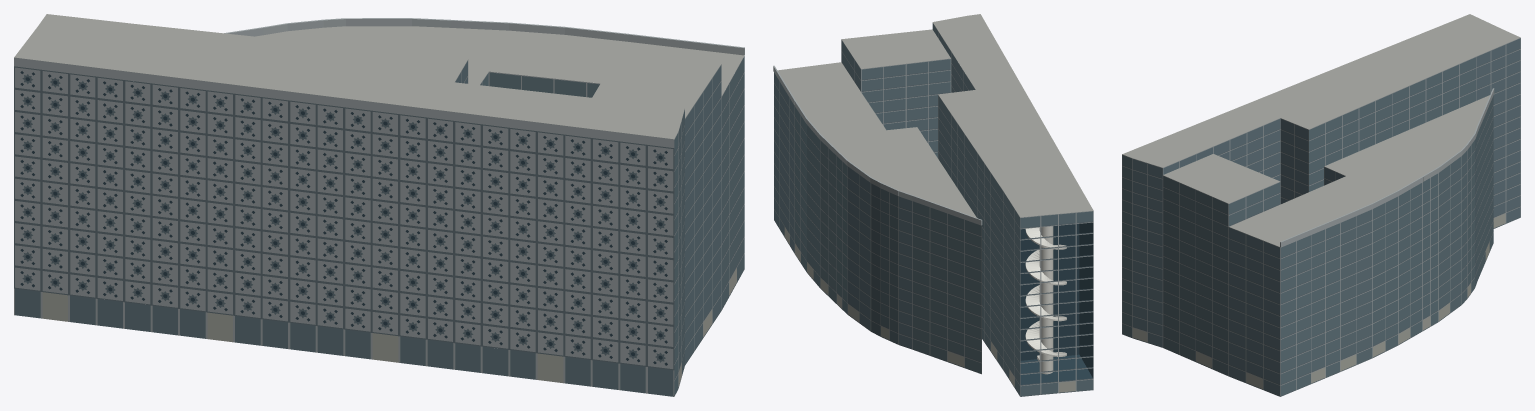
The model's file is institut-du-monde-arabe-near.glb.
3 views of the same model, side by side, from view 1: azimuth 30°, elevation 25°; view 2: azimuth 150°, elevation 25°; view 3: azimuth 270°, elevation 25° (orthographic). The views are drawn at different scales.
Parts seen in each view (by area): view 1: institut-du-monde-arabe-0-metal, institut-du-monde-arabe-0-roof, institut-du-monde-arabe-0-frame, institut-du-monde-arabe-0-glass, institut-du-monde-arabe-0-aperture, institut-du-monde-arabe-0-glow; view 2: institut-du-monde-arabe-0-glass, institut-du-monde-arabe-0-roof, institut-du-monde-arabe-0-metal, institut-du-monde-arabe-0-aperture, institut-du-monde-arabe-0-frame, institut-du-monde-arabe-0-white, institut-du-monde-arabe-0-glow; view 3: institut-du-monde-arabe-0-glass, institut-du-monde-arabe-0-roof, institut-du-monde-arabe-0-metal, institut-du-monde-arabe-0-frame, institut-du-monde-arabe-0-glow.
Part boxes in pixels (bbox=[...]): institut-du-monde-arabe-0-metal: bbox=[14, 18, 744, 396]; institut-du-monde-arabe-0-roof: bbox=[14, 14, 744, 139]; institut-du-monde-arabe-0-frame: bbox=[14, 66, 744, 396]; institut-du-monde-arabe-0-glass: bbox=[15, 56, 744, 396]; institut-du-monde-arabe-0-aperture: bbox=[20, 71, 667, 365]; institut-du-monde-arabe-0-glow: bbox=[42, 268, 736, 386]; institut-du-monde-arabe-0-glass: bbox=[774, 23, 1093, 395]; institut-du-monde-arabe-0-roof: bbox=[777, 14, 1093, 217]; institut-du-monde-arabe-0-metal: bbox=[773, 23, 1093, 396]; institut-du-monde-arabe-0-aperture: bbox=[1020, 222, 1093, 384]; institut-du-monde-arabe-0-frame: bbox=[774, 51, 1093, 396]; institut-du-monde-arabe-0-white: bbox=[1025, 226, 1066, 374]; institut-du-monde-arabe-0-glow: bbox=[784, 227, 1075, 392]; institut-du-monde-arabe-0-glass: bbox=[1122, 38, 1520, 395]; institut-du-monde-arabe-0-roof: bbox=[1122, 14, 1520, 246]; institut-du-monde-arabe-0-metal: bbox=[1122, 37, 1520, 396]; institut-du-monde-arabe-0-frame: bbox=[1122, 48, 1520, 396]; institut-du-monde-arabe-0-glow: bbox=[1132, 213, 1505, 388].
Bounding box in the file's own units: 77.41 × 32 × 64.23.
